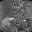people: (1, 16, 14, 28)
